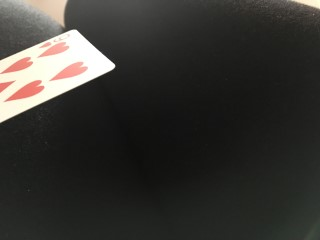NineOfHearts: (1, 30, 116, 123)
